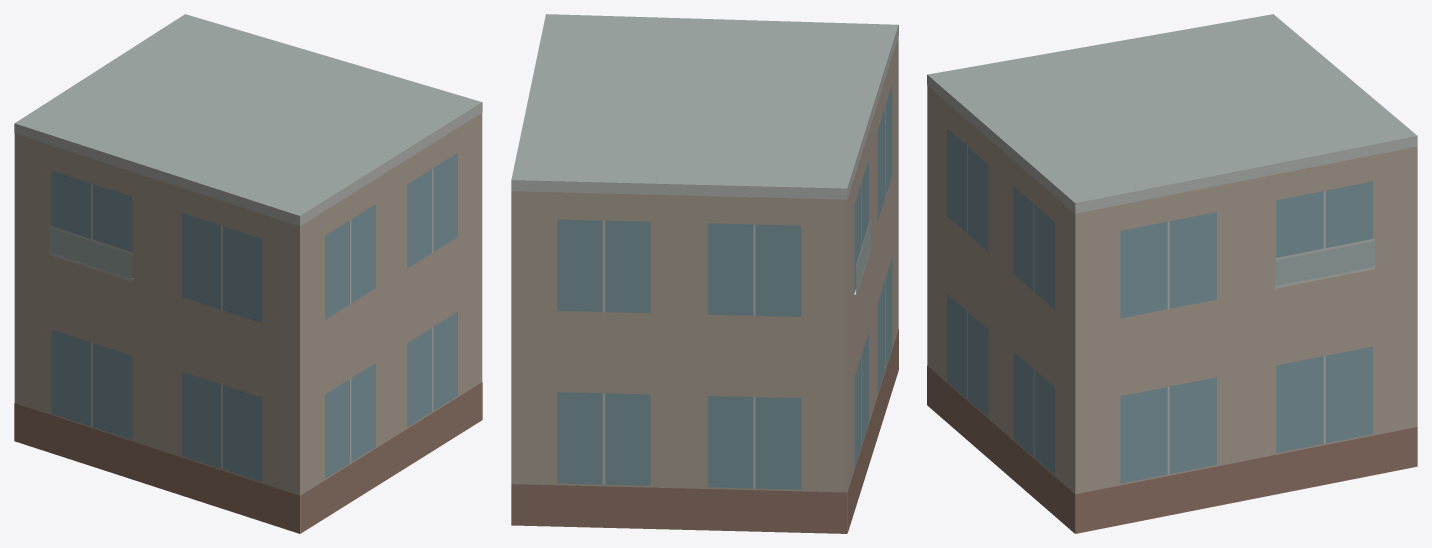
The model's file is survey-upis-32597225.glb.
3 renders of one model, left to right at view 1: azimuth 30°, elevation 25°; view 2: azimuth 150°, elevation 25°; view 3: azimuth 270°, elevation 25°, orthographic. The views are drawn at different scales.
Visible parts, largest first — view 1: survey-upis-32597225.tmp; view 2: survey-upis-32597225.tmp; view 3: survey-upis-32597225.tmp.
Part boxes in pixels (box(x1,y1,x2,y2)): survey-upis-32597225.tmp: box(14, 14, 482, 533); survey-upis-32597225.tmp: box(511, 14, 898, 533); survey-upis-32597225.tmp: box(927, 14, 1417, 533).
Size of the model in its own units: 9.34 by 7.6 by 10.23.
